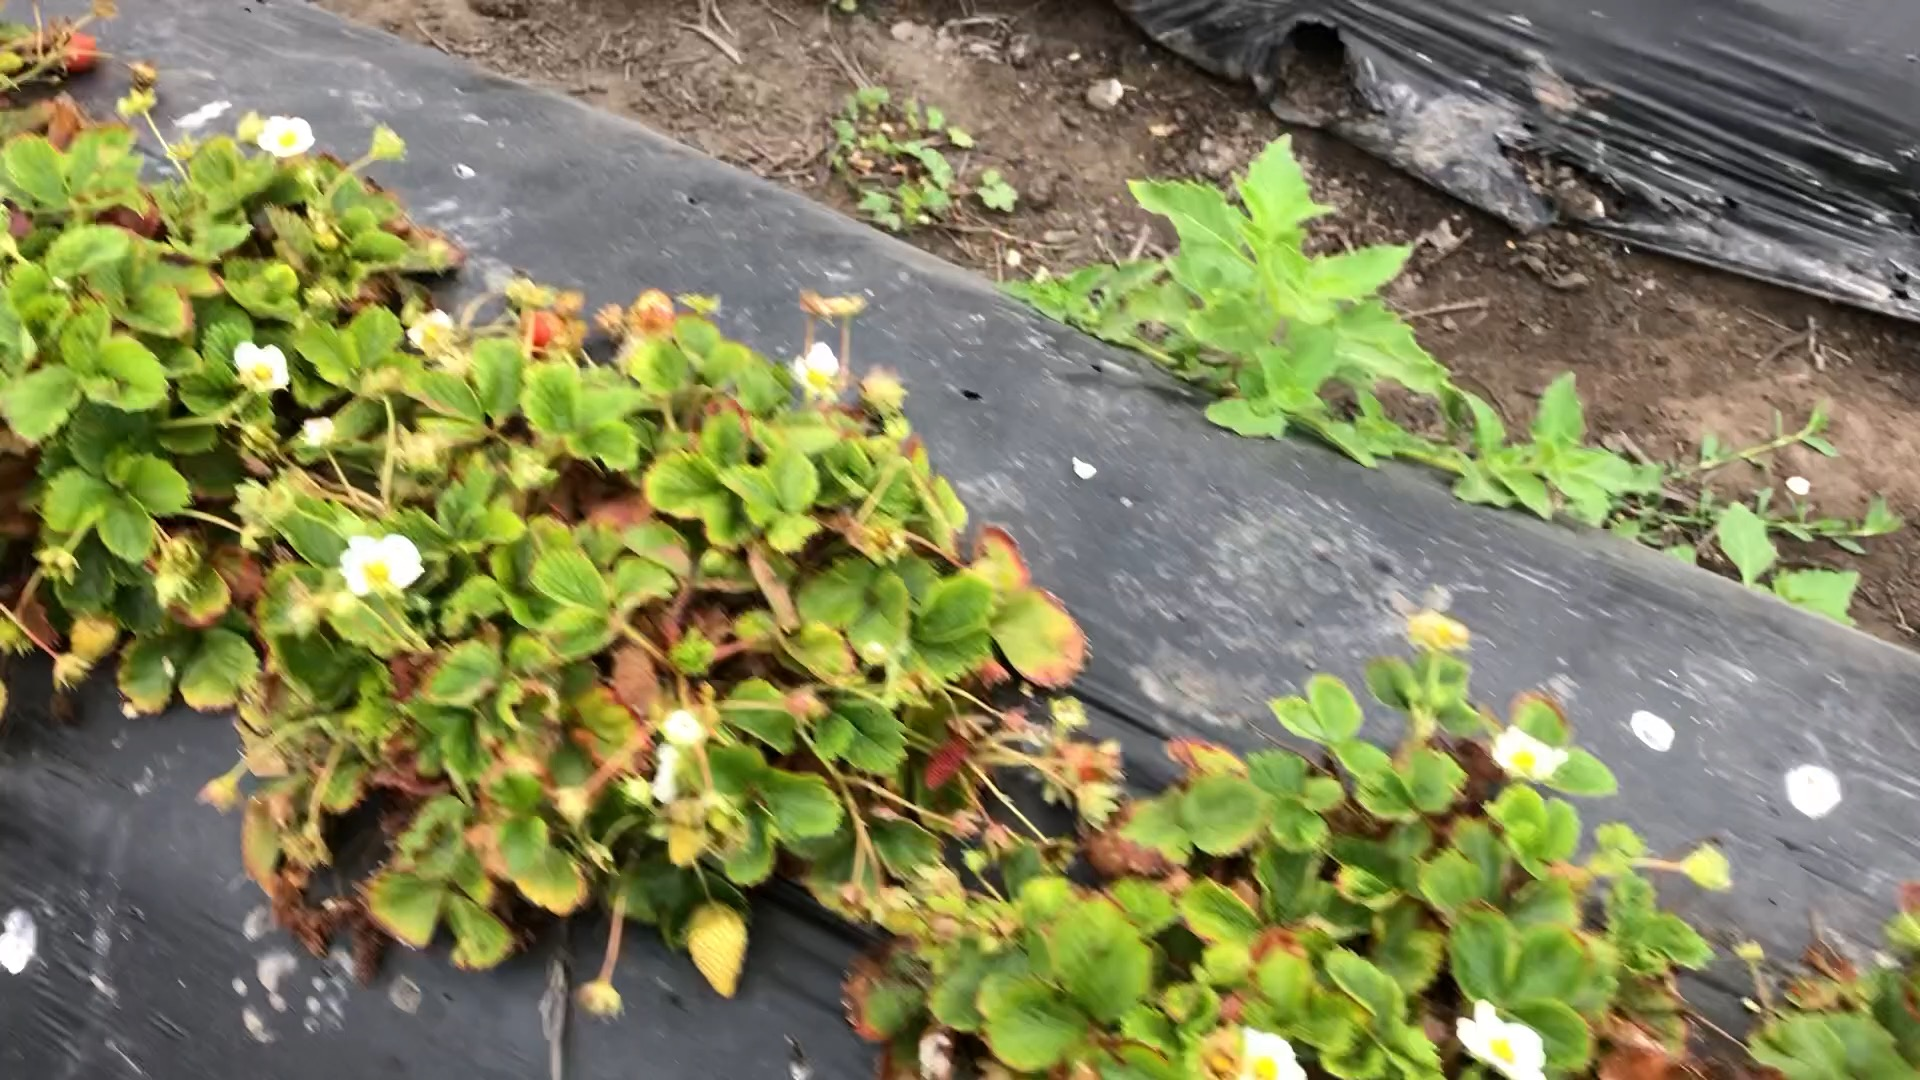unripe_strawberry: (684, 898, 756, 1006), (67, 615, 127, 666)
